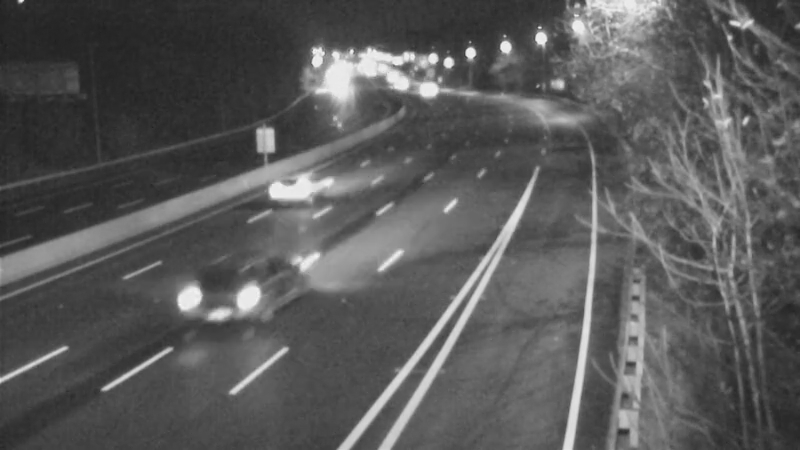vehicle: (245, 152, 325, 232), (184, 245, 264, 325), (400, 63, 450, 113), (314, 66, 364, 116)
